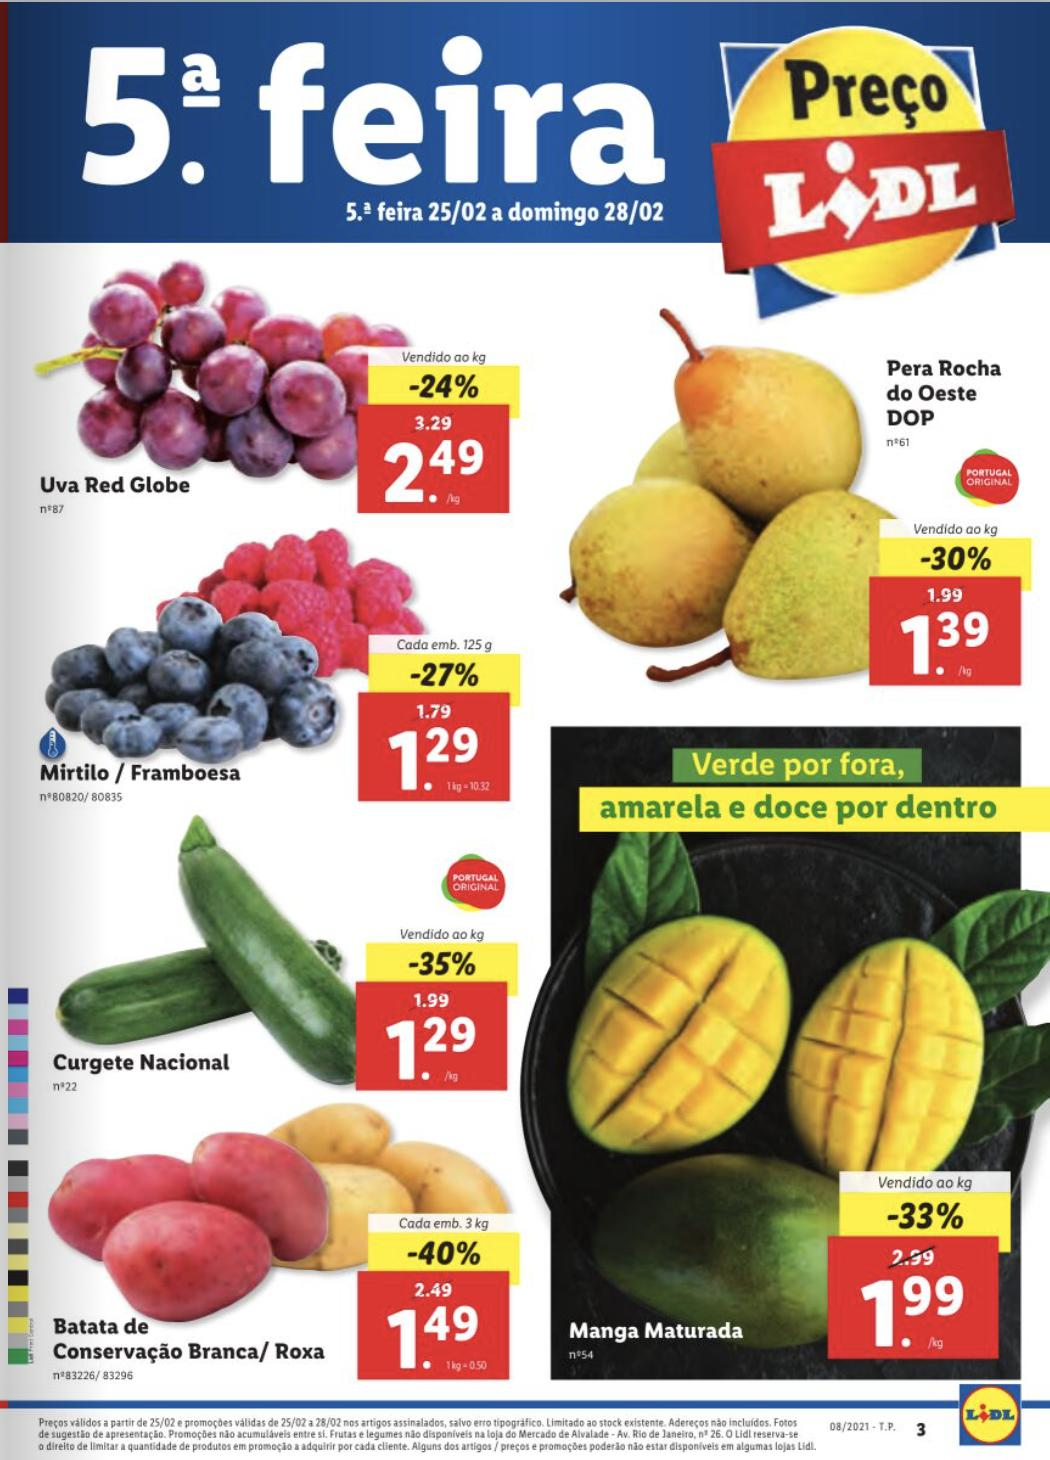name: (50, 1313, 335, 1365), (877, 353, 1008, 431), (41, 758, 246, 789), (54, 1049, 239, 1078), (570, 1318, 752, 1347), (39, 467, 194, 500)
price: (854, 1270, 969, 1349), (370, 434, 486, 506), (376, 1304, 483, 1378), (894, 606, 994, 680), (386, 1011, 479, 1085), (390, 729, 488, 793)
product: (557, 905, 1014, 1374), (571, 304, 1050, 705), (3, 238, 559, 534), (34, 804, 532, 1105), (34, 1105, 523, 1391), (6, 545, 545, 804)
promotion: (401, 653, 492, 696), (883, 1198, 965, 1238), (405, 364, 483, 402), (403, 944, 483, 981), (408, 1236, 488, 1270), (912, 542, 992, 572)
